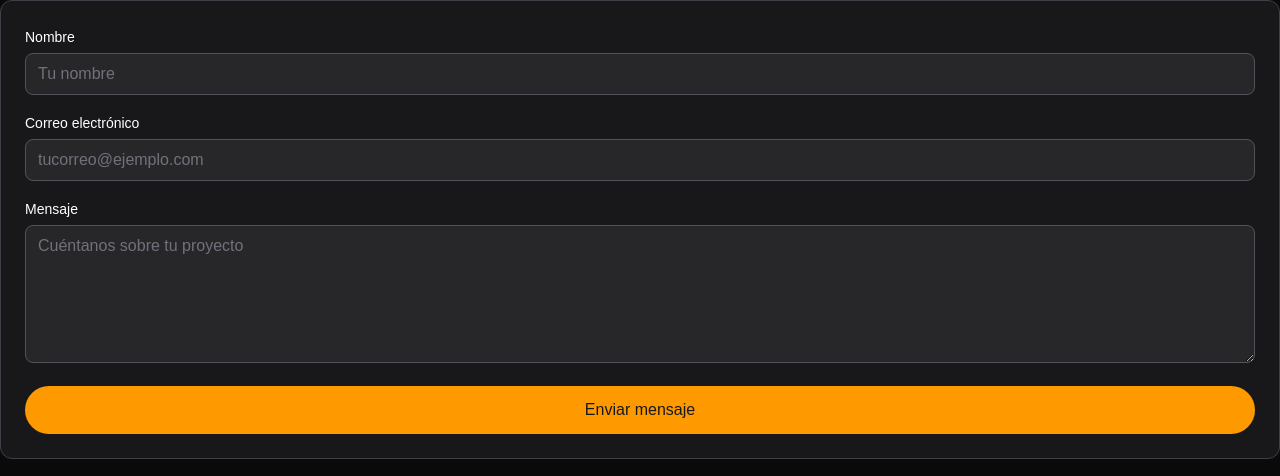
Test: ContactForm (US12) › muestra la confirmación al enviar un formulario válido
Type "Ana Torres" into the field labelled "Nombre" at x=640, y=74, box x1=25 y1=53 x2=1255 y2=95
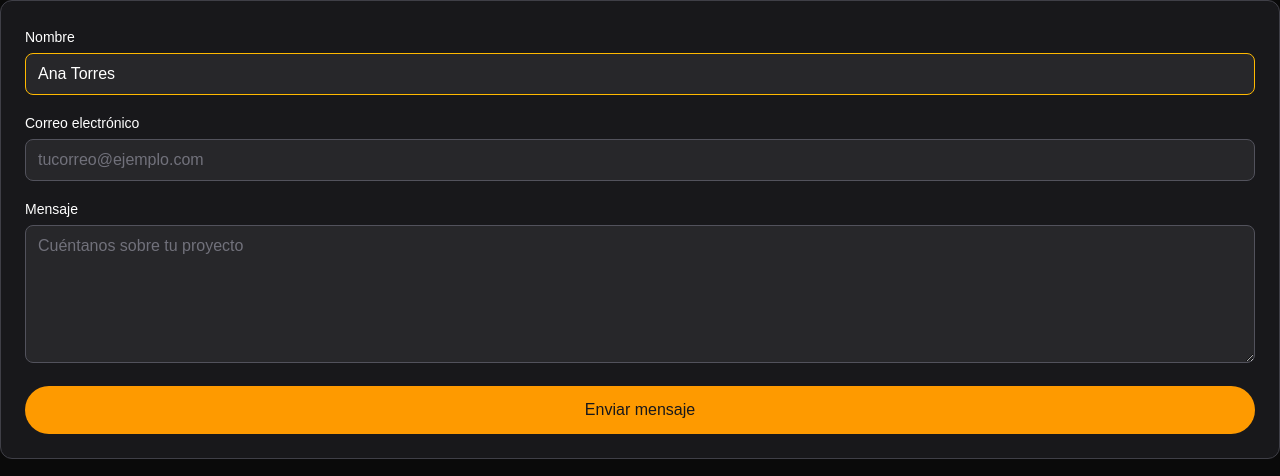
Type "ana@ejemplo.com" into the field labelled "Correo electrónico" at x=640, y=160, box x1=25 y1=139 x2=1255 y2=181
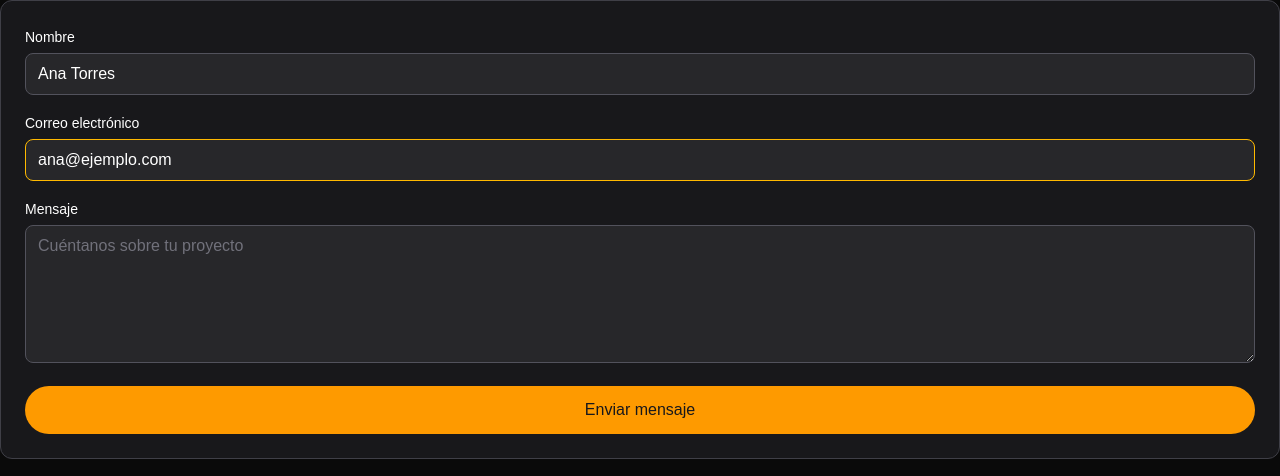
Type "Quiero un presupuesto" into the text box labelled "Mensaje" at x=640, y=294, box x1=25 y1=225 x2=1255 y2=363
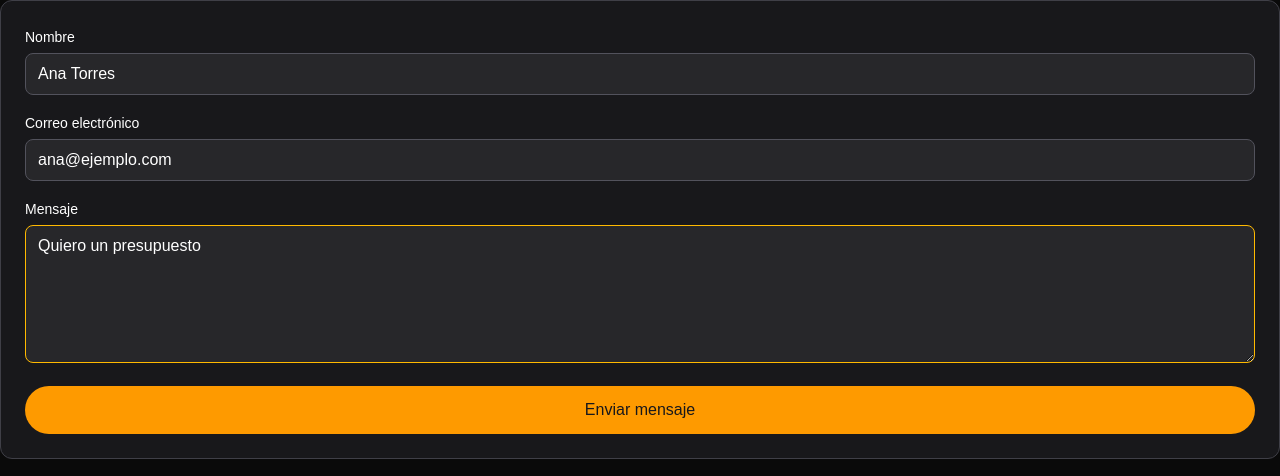
Click the button "Enviar mensaje" at x=640, y=410, box x1=25 y1=386 x2=1255 y2=434
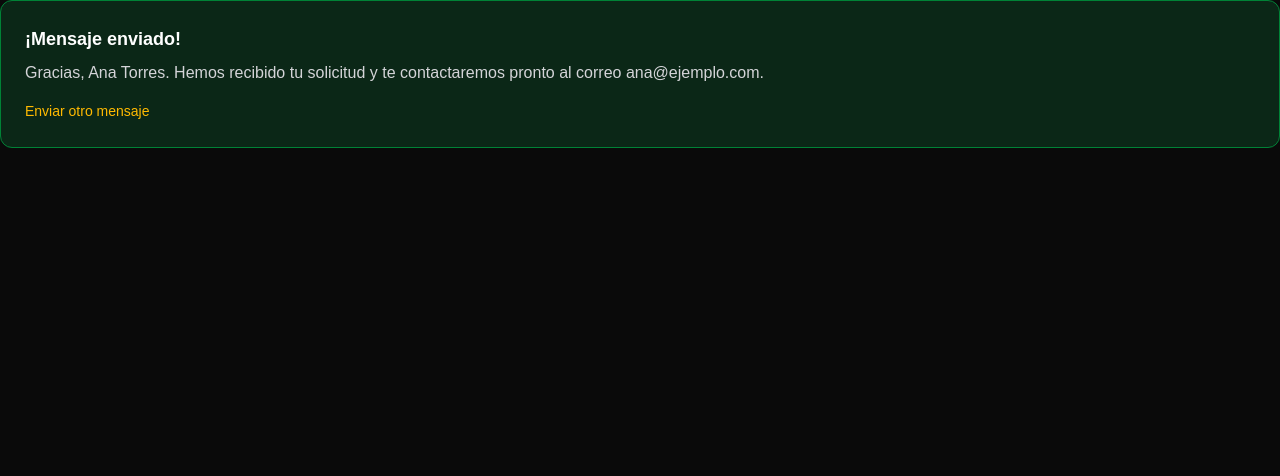
Check: the message is shown, box x1=0 y1=0 x2=1279 y2=148
Check: the heading "¡Mensaje enviado!" is shown, box x1=25 y1=29 x2=181 y2=49
Check: the text "Gracias, Ana Torres." is shown, box x1=25 y1=64 x2=764 y2=81
